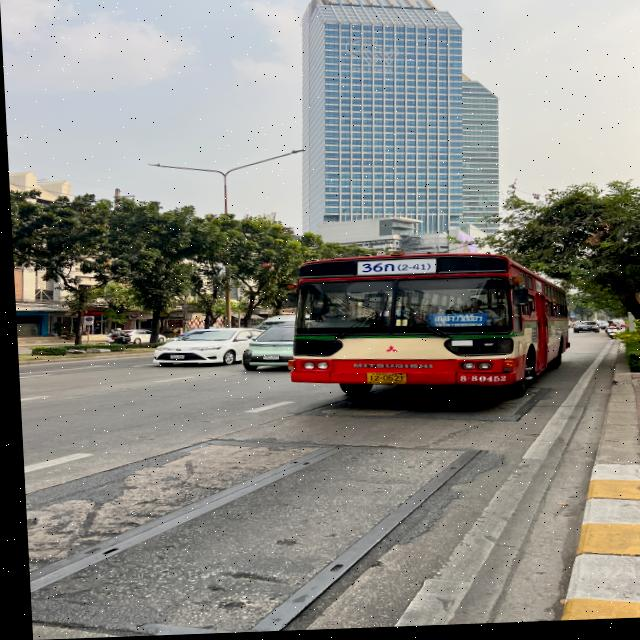BMTA-bus: (280, 249, 570, 404)
Bus-Line-Number: (352, 262, 436, 278)
Destination-Sign-Normal: (421, 316, 485, 331)
